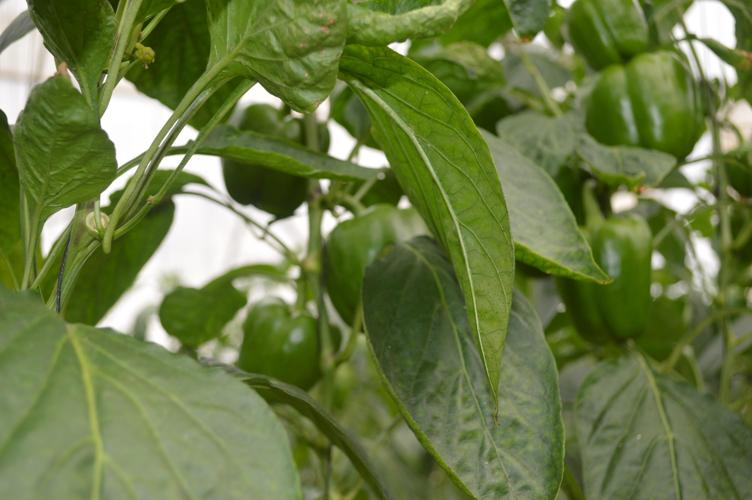BellPepper: (215, 106, 333, 225), (323, 199, 433, 326), (560, 217, 666, 342), (232, 297, 325, 393)
